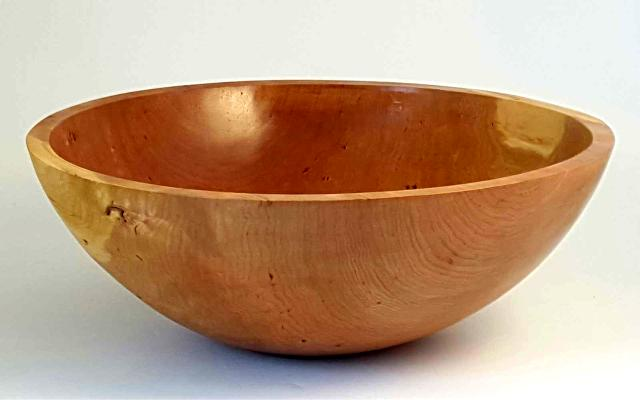Bowl: (27, 81, 613, 355)
